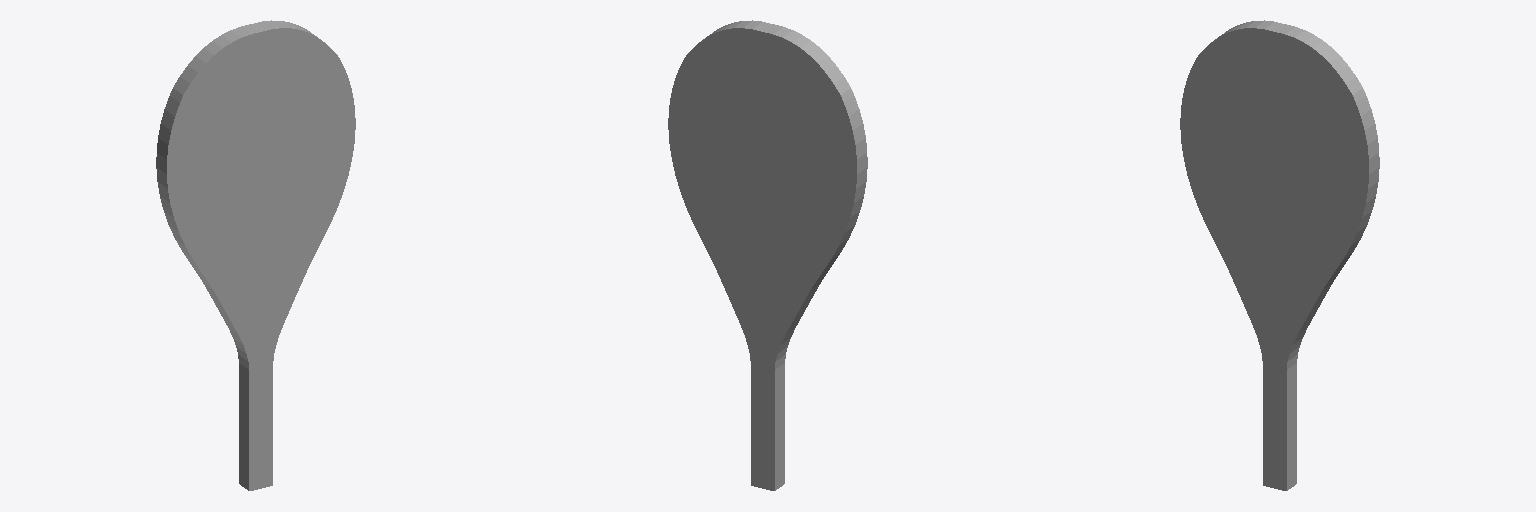
The robot description file, URDF, robot "wam":
<?xml version="1.0" ?>
<!-- =================================================================================== -->
<!-- |    EDITING THIS FILE BY HAND IS NOT RECOMMENDED                                 | -->
<!-- =================================================================================== -->
<robot name="wam">
  <gazebo>
    <plugin filename="libgazebo_ros_control.so" name="gazebo_ros_control">
      <robotNamespace>/</robotNamespace>
    </plugin>
  </gazebo>
  <!-- Materials -->
  <material name="WAMGrey">
    <color rgba="0.7 0.7 0.7 1.0"/>
  </material>
  <!-- Root link is in the world frame-->
  <link name="base_link"/>
  <link name="base_footprint"/>
  <joint name="base_link_joint" type="fixed">
    <parent link="base_footprint"/>
    <child link="base_link"/>
    <origin rpy="0 0 0" xyz="0 0 0.49"/>
  </joint>
  <joint name="wam/wam_fixed_joint" type="fixed">
    <parent link="base_link"/>
    <child link="wam/base_link"/>
    <origin rpy="0 0 3.141592653589793" xyz=".0793752 0.0 0.001"/>
  </joint>
  <gazebo reference="wam/base_link">
    <material>Gazebo/Grey</material>
  </gazebo>
  <link name="wam/base_link">
    <inertial>
      <origin xyz="0.1 0 0"/>
      <mass value=".1"/>
      <inertia ixx="0.1" ixy="0" ixz="0" iyy="0.1" iyz="0" izz="0.1"/>
    </inertial>
    <visual>
      <material name="WAMGrey">
        <color rgba="0.7 0.7 0.7 0.0"/>
      </material>
      <geometry>
        <mesh filename="package://wam_model/models/sw_meshes/base_link_fine.stl"/>
      </geometry>
    </visual>
    <collision>
      <geometry>
        <mesh filename="package://wam_model/models/sw_meshes/base_link_convex.dae"/>
      </geometry>
    </collision>
  </link>
  <joint name="wam/base_yaw_joint" type="revolute">
    <parent link="wam/base_link"/>
    <child link="wam/shoulder_yaw_link"/>
    <origin rpy="0 0 0" xyz="0 0 0.346"/>
    <axis xyz="0 0 1"/>
    <limit effort="100" lower="-2.6" upper="2.6" velocity="3.8"/>
  </joint>
  <gazebo reference="wam/base_yaw_joint">
  </gazebo>
  <transmission name="wam/base_yaw_trans">
    <type>transmission_interface/SimpleTransmission</type>
    <joint name="wam/base_yaw_joint">
      <hardwareInterface>hardware_interface/PositionJointInterface</hardwareInterface>
    </joint>
    <actuator name="wam/base_yaw_motor">
      <hardwareInterface>hardware_interface/PositionJointInterface</hardwareInterface>
      <mechanicalReduction>1</mechanicalReduction>
    </actuator>
  </transmission>
  <gazebo reference="wam/shoulder_yaw_link">
    <material>Gazebo/Grey</material>
  </gazebo>
  <link name="wam/shoulder_yaw_link">
    <inertial>
      <origin xyz="-.00443422 -.00066489 -0.1289039 "/>
      <mass value="0.0001"/>
      <inertia ixx=".13488033" ixy="-0.00012485" ixz="0.00213041" iyy=".09046330" iyz="-.00068555" izz=".11328369"/>
    </inertial>
    <visual>
      <material name="WAMGrey">
        <color rgba="0.7 0.7 0.7 1.0"/>
      </material>
      <geometry>
        <mesh filename="package://wam_model/models/sw_meshes/shoulder_link_fine.stl"/>
      </geometry>
    </visual>
    <collision>
      <geometry>
        <mesh filename="package://wam_model/models/sw_meshes/shoulder_link_convex_decomposition.dae"/>
      </geometry>
    </collision>
  </link>
  <joint name="wam/shoulder_pitch_joint" type="revolute">
    <parent link="wam/shoulder_yaw_link"/>
    <child link="wam/shoulder_pitch_link"/>
    <origin rpy="-1.5707963267948966 0 0" xyz="0 0 0"/>
    <axis xyz="0 0 1"/>
    <limit effort="100" lower="-2" upper="2" velocity="6.8"/>
  </joint>
  <gazebo reference="wam/shoulder_pitch_joint">
  </gazebo>
  <transmission name="wam/shoulder_pitch_trans">
    <type>transmission_interface/SimpleTransmission</type>
    <joint name="wam/shoulder_pitch_joint">
      <hardwareInterface>hardware_interface/PositionJointInterface</hardwareInterface>
    </joint>
    <actuator name="wam/shoulder_pitch_motor">
      <hardwareInterface>hardware_interface/PositionJointInterface</hardwareInterface>
      <mechanicalReduction>1</mechanicalReduction>
    </actuator>
  </transmission>
  <gazebo reference="wam/shoulder_pitch_link">
    <material>Gazebo/Grey</material>
  </gazebo>
  <link name="wam/shoulder_pitch_link">
    <visual>
      <material name="WAMGrey">
        <color rgba="0.7 0.7 0.7 1.0"/>
      </material>
      <geometry>
        <mesh filename="package://wam_model/models/sw_meshes/shoulder_pitch_link_fine.stl"/>
      </geometry>
    </visual>
    <inertial>
      <origin xyz="-.00236981 -.01542114 .03105614 "/>
      <mass value="0.0001"/>
      <inertia ixx="0.02140958" ixy="-0.00002461" ixz="0.00027172" iyy="0.015589060" iyz="0.0018192" izz="0.01377875"/>
    </inertial>
    <collision>
      <geometry>
        <mesh filename="package://wam_model/models/sw_meshes/shoulder_pitch_link_convex.dae"/>
      </geometry>
    </collision>
  </link>
  <joint name="wam/shoulder_yaw_joint" type="revolute">
    <parent link="wam/shoulder_pitch_link"/>
    <child link="wam/upper_arm_link"/>
    <origin rpy="1.5707963267948966 0 0" xyz="0 0 0"/>
    <axis xyz="0 0 1"/>
    <limit effort="100" lower="-2.8" upper="2.8" velocity="15"/>
  </joint>
  <gazebo reference="wam/shoulder_yaw_joint">
  </gazebo>
  <transmission name="wam/shoulder_yaw_trans">
    <type>transmission_interface/SimpleTransmission</type>
    <joint name="wam/shoulder_yaw_joint">
      <hardwareInterface>hardware_interface/PositionJointInterface</hardwareInterface>
    </joint>
    <actuator name="wam/shoulder_yaw_motor">
      <hardwareInterface>hardware_interface/PositionJointInterface</hardwareInterface>
      <mechanicalReduction>1</mechanicalReduction>
    </actuator>
  </transmission>
  <gazebo reference="wam/upper_arm_link">
    <material>Gazebo/Grey</material>
  </gazebo>
  <link name="wam/upper_arm_link">
    <inertial>
      <origin xyz="0.00683258580000000 0.000033090000000 0.392492300000000"/>
      <mass value="0.0001"/>
      <inertia ixx=".05911077" ixy="-0.00000738" ixz="-0.00249612" iyy="0.05927043" iyz="0.00001767" izz="0.0032455"/>
    </inertial>
    <visual>
      <material name="WAMGrey">
        <color rgba="0.7 0.7 0.7 1.0"/>
      </material>
      <geometry>
        <mesh filename="package://wam_model/models/sw_meshes/upper_arm_link_fine.stl"/>
      </geometry>
    </visual>
    <collision>
      <geometry>
        <mesh filename="package://wam_model/models/sw_meshes/upper_arm_link_convex_decomposition.dae"/>
      </geometry>
    </collision>
  </link>
  <joint name="wam/elbow_pitch_joint" type="revolute">
    <parent link="wam/upper_arm_link"/>
    <child link="wam/forearm_link"/>
    <origin rpy="-1.5707963267948966 0 0" xyz="0.045 0 0.55"/>
    <axis xyz="0 0 1"/>
    <limit effort="30" lower="-0.9" upper="3.1" velocity="15"/>
  </joint>
  <gazebo reference="wam/elbow_pitch_joint">
  </gazebo>
  <transmission name="wam/elbow_pitch_trans">
    <type>transmission_interface/SimpleTransmission</type>
    <joint name="wam/elbow_pitch_joint">
      <hardwareInterface>hardware_interface/PositionJointInterface</hardwareInterface>
    </joint>
    <actuator name="wam/elbow_pitch_motor">
      <hardwareInterface>hardware_interface/PositionJointInterface</hardwareInterface>
      <mechanicalReduction>1</mechanicalReduction>
    </actuator>
  </transmission>
  <gazebo reference="wam/forearm_link">
    <material>Gazebo/Grey</material>
  </gazebo>
  <link name="wam/forearm_link">
    <inertial>
      <mass value="0.0001"/>
      <origin rpy="0 0 0" xyz="-0.04001488 -.14271662 -.00022942 "/>
      <inertia ixx="0.01491672" ixy="0.001506040000000" ixz="0.000017410000000" iyy="0.002944630000000" iyz="0.000021090000000" izz="0.014829880000000"/>
    </inertial>
    <visual>
      <material name="WAMGrey">
        <color rgba="0.7 0.7 0.7 1.0"/>
      </material>
      <geometry>
        <mesh filename="package://wam_model/models/sw_meshes/elbow_link_fine.stl"/>
      </geometry>
    </visual>
    <collision>
      <geometry>
        <mesh filename="package://wam_model/models/sw_meshes/elbow_link_convex.dae"/>
      </geometry>
    </collision>
    <visual>
      <material name="WAMGrey">
        <color rgba="0.7 0.7 0.7 1.0"/>
      </material>
      <origin rpy="1.5707963267948966 0 0" xyz="-0.045 -0.0730 0"/>
      <geometry>
        <mesh filename="package://wam_model/models/sw_meshes/forearm_link_fine.stl"/>
      </geometry>
    </visual>
    <collision>
      <origin rpy="1.5707963267948966 0 0" xyz="-0.045 -0.0730 0"/>
      <geometry>
        <mesh filename="package://wam_model/models/sw_meshes/forearm_link_convex_decomposition.dae"/>
      </geometry>
    </collision>
  </link>
  <joint name="wam/wrist_yaw_joint" type="revolute">
    <parent link="wam/forearm_link"/>
    <child link="wam/wrist_yaw_link"/>
    <origin rpy="1.5707963267948966 3.141592653589793 0" xyz="-0.045 -0.3 0"/>
    <axis xyz="0 0 1"/>
    <!-- <limit effort="10" lower="-4.5" upper="1.24" velocity="10"/> -->
    <limit effort="10" lower="-1.3" upper="1.20" velocity="15"/>
  </joint>
  <gazebo reference="wam/wrist_yaw_joint">
  </gazebo>
  <transmission name="wam/wrist_yaw_trans">
    <type>transmission_interface/SimpleTransmission</type>
    <joint name="wam/wrist_yaw_joint">
      <hardwareInterface>hardware_interface/PositionJointInterface</hardwareInterface>
    </joint>
    <actuator name="wam/wrist_yaw_motor">
      <hardwareInterface>hardware_interface/PositionJointInterface</hardwareInterface>
      <mechanicalReduction>1</mechanicalReduction>
    </actuator>
  </transmission>
  <gazebo reference="wam/wrist_yaw_link">
    <material>Gazebo/Grey</material>
  </gazebo>
  <link name="wam/wrist_yaw_link">
    <inertial>
      <origin xyz="0.00008921 0.00435824 -0.00511217 "/>
      <mass value="0.0001"/>
      <inertia ixx="0.00005029" ixy="0.00000020" ixz="0.00007582" iyy="0.00007582" iyz="-0.00000359" izz="0.00006270"/>
    </inertial>
    <visual>
      <material name="WAMGrey">
        <color rgba="0.7 0.7 0.7 1.0"/>
      </material>
      <origin rpy="0 0 0" xyz="0 0 0"/>
      <geometry>
        <mesh filename="package://wam_model/models/sw_meshes/wrist_yaw_link_fine.stl"/>
      </geometry>
    </visual>
    <collision>
      <origin rpy="0 0 0" xyz="0 0 0"/>
      <geometry>
        <mesh filename="package://wam_model/models/sw_meshes/wrist_yaw_link_convex_decomposition.dae"/>
      </geometry>
    </collision>
  </link>
  <joint name="wam/wrist_pitch_joint" type="fixed">
    <parent link="wam/wrist_yaw_link"/>
    <child link="wam/wrist_pitch_link"/>
    <origin rpy="-1.5707963267948966 0 3.141592653589793" xyz="0 0 0"/>
    <axis xyz="0 0 1"/>
    <limit effort="10" lower="-1.57" upper="1.57" velocity="10"/>
  </joint>
  <gazebo reference="wam/wrist_pitch_joint">
  </gazebo>
  <transmission name="wam/wrist_pitch_trans">
    <type>transmission_interface/SimpleTransmission</type>
    <joint name="wam/wrist_pitch_joint">
      <hardwareInterface>hardware_interface/PositionJointInterface</hardwareInterface>
    </joint>
    <actuator name="wam/wrist_pitch_motor">
      <hardwareInterface>hardware_interface/PositionJointInterface</hardwareInterface>
      <mechanicalReduction>1</mechanicalReduction>
    </actuator>
  </transmission>
  <gazebo reference="wam/wrist_pitch_link">
    <material>Gazebo/Grey</material>
  </gazebo>
  <link name="wam/wrist_pitch_link">
    <inertial>
      <origin rpy="0 0 0" xyz="-0.00012262 -0.02468336 -0.01703194 "/>
      <mass value="0.0001"/>
      <inertia ixx="0.00055516" ixy="0.00000061" ixz="-0.00000074" iyy="0.00024367" iyz="-0.00004590" izz="0.00045358"/>
    </inertial>
    <visual>
      <material name="WAMGrey">
        <color rgba="0.7 0.7 0.7 1.0"/>
      </material>
      <geometry>
        <mesh filename="package://wam_model/models/sw_meshes/wrist_pitch_link_fine.stl"/>
      </geometry>
    </visual>
    <collision>
      <geometry>
        <mesh filename="package://wam_model/models/sw_meshes/wrist_pitch_link_convex_decomposition.dae"/>
      </geometry>
    </collision>
  </link>
  <joint name="wam/palm_yaw_joint" type="fixed">
    <parent link="wam/wrist_pitch_link"/>
    <child link="wam/wrist_palm_link"/>
    <origin rpy="1.5707963267948966 0 0" xyz="0 0 0"/>
    <axis xyz="0 0 1"/>
    <limit effort="10" lower="-2.95" upper="2.95" velocity="10"/>
  </joint>
  <gazebo reference="wam/palm_yaw_joint">
  </gazebo>
  <transmission name="wam/palm_yaw_trans">
    <type>transmission_interface/SimpleTransmission</type>
    <joint name="wam/palm_yaw_joint">
      <hardwareInterface>hardware_interface/PositionJointInterface</hardwareInterface>
    </joint>
    <actuator name="wam/palm_yaw_motor">
      <hardwareInterface>hardware_interface/PositionJointInterface</hardwareInterface>
      <mechanicalReduction>1</mechanicalReduction>
    </actuator>
  </transmission>
  <gazebo reference="wam/wrist_palm_link">
    <material>Gazebo/Grey</material>
  </gazebo>
  <link name="wam/wrist_palm_link">
    <inertial>
      <origin rpy="0 0 0" xyz="0.0 0.0 0.055"/>
      <mass value="0.0001"/>
      <inertia ixx="0.00010859" ixy="0.00000000" ixz="-0.00000000" iyy="0.00020683" iyz="-0.0000000" izz="0.00010851"/>
    </inertial>
    <visual>
      <material name="WAMGrey">
        <color rgba="0.7 0.7 0.7 1.0"/>
      </material>
      <origin rpy="0 0 0" xyz="0 0 0"/>
      <geometry>
        <mesh filename="package://wam_model/models/sw_meshes/wrist_palm_link_fine.stl"/>
      </geometry>
    </visual>
    <collision>
      <origin rpy="0 0 0" xyz="0 0 0"/>
      <geometry>
        <mesh filename="package://wam_model/models/sw_meshes/wrist_palm_link_convex.dae"/>
      </geometry>
    </collision>
  </link>
  <joint name="wam/wrist_palm_stump_joint" type="fixed">
    <parent link="wam/wrist_palm_link"/>
    <child link="wam/wrist_palm_stump_link"/>
    <origin rpy="0 0 0" xyz="0 0 0.06"/>
  </joint>
  <link name="wam/wrist_palm_stump_link">
    <inertial>
      <mass value="0.000001"/>
      <inertia ixx="0.0000001" ixy="0.0" ixz="0.0" iyy="0.0000001" iyz="0.0" izz="0.0000001"/>
    </inertial>
  </link>
  <joint name="wam/racquet_joint" type="fixed">
    <parent link="wam/wrist_palm_stump_link"/>
    <child link="wam/racquet_link"/>
    <!-- for racket head in straight position -->
    <!-- <origin xyz="0 0 0.01" rpy="0 0 0"/> -->
    <!-- for racket head in perpendicular starting position -->
    <origin rpy="0 0 1.5707963267948966" xyz="0 0 0.01"/>
  </joint>
  <gazebo reference="wam/racquet_link">
    <material>Gazebo/Grey</material>
  </gazebo>
  <link name="wam/racquet_link">
    <inertial>
      <mass value="0.00001"/>
      <inertia ixx="0.0001" ixy="0" ixz="0" iyy="0.0001" iyz="0" izz="0.0001"/>
    </inertial>
    <visual>
      <material name="WAMGrey">
        <color rgba="0.7 0.7 0.7 1.0"/>
      </material>
      <origin rpy="0 0 0" xyz="0 0 0"/>
      <geometry>
        <mesh filename="package://wam_model/models/sw_meshes/racket_new.stl" scale="1 1 1"/>
      </geometry>
    </visual>
    <collision>
      <origin rpy="0 0 0" xyz="0 0 0"/>
      <geometry>
        <mesh filename="package://wam_model/models/sw_meshes/racket_new.stl" scale="1 1 1"/>
      </geometry>
    </collision>
  </link>
  <link name="wam/racquet_hitpoint_link"/>
  <joint name="wam/racquet_hitpoint_joint" type="fixed">
    <parent link="wam/racquet_link"/>
    <child link="wam/racquet_hitpoint_link"/>
    <origin rpy="0 1.5707963267948966 0" xyz="0 0 0.520"/>
  </joint>
</robot>

--- Render facts (derived) ---
The picture shows the robot from 3 angles, left to right: view 1: azimuth 30°, elevation 25°; view 2: azimuth 150°, elevation 25°; view 3: azimuth 330°, elevation 25°; orthographic projection.
Model wam with 13 links and 12 joints (5 revolute, 7 fixed), rooted at base_footprint, posed all joints at 0.
Visible links, largest first — view 1: wam/racquet_link; view 2: wam/racquet_link; view 3: wam/racquet_link.
Link boxes in pixels (left/top/right/bottom): wam/racquet_link: left=156, top=20, right=355, bottom=490; wam/racquet_link: left=668, top=20, right=867, bottom=490; wam/racquet_link: left=1180, top=20, right=1379, bottom=490.
Size in the robot's own frame: 0.3016 by 0.029 by 0.6971 metres.
Meshes: 10 distinct files referenced, 1 mesh visuals loaded (1 binary STL); not drawn: 9 (reference not matched to a file when rendering).